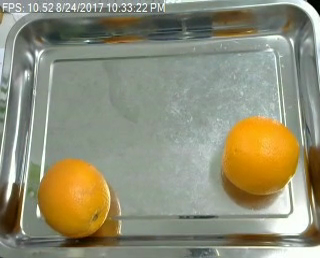Orange: (220, 115, 300, 196), (38, 158, 110, 238)
